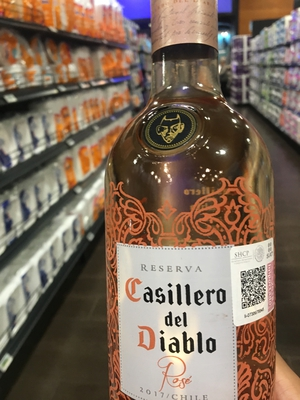casillero del diablo rose: (103, 11, 279, 400)
